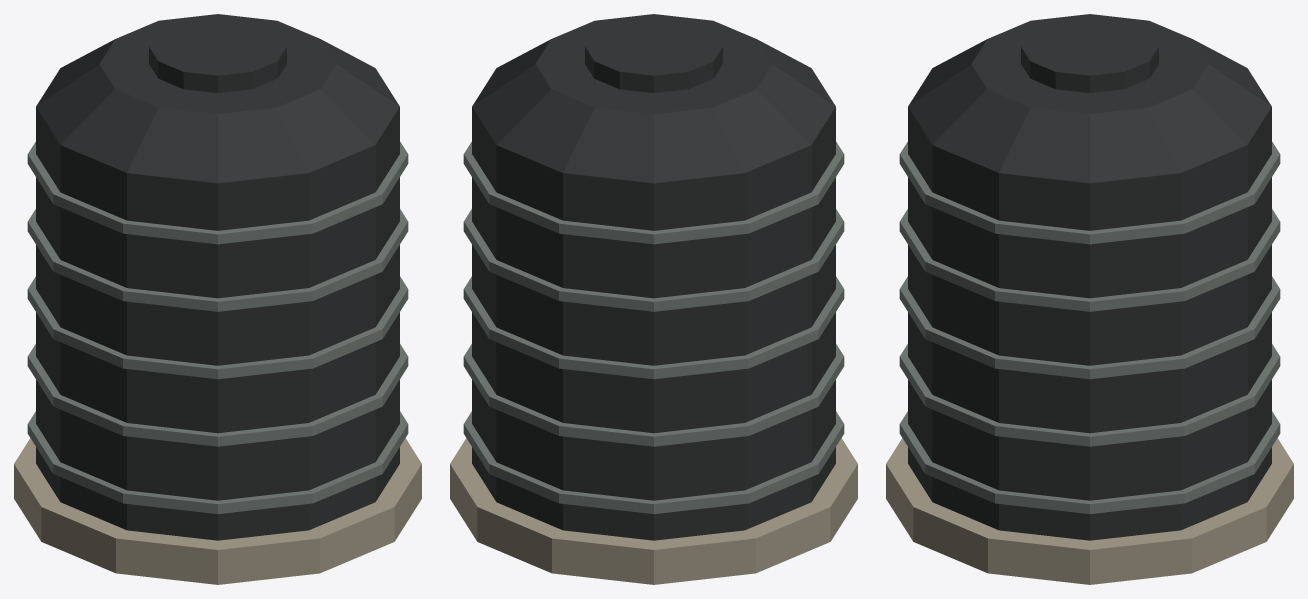
File: 062_rooftop_water_tank.glb
3 views of the same model, side by side, from view 1: azimuth 30°, elevation 25°; view 2: azimuth 150°, elevation 25°; view 3: azimuth 270°, elevation 25° (orthographic).
Visible parts, largest first — view 1: Rooftop water tank; view 2: Rooftop water tank; view 3: Rooftop water tank.
Part boxes in pixels (x1,y1,x2,y2): Rooftop water tank: [14, 14, 421, 584]; Rooftop water tank: [450, 14, 857, 584]; Rooftop water tank: [886, 14, 1293, 584].
Size of the model in its own units: 1.48 by 1.81 by 1.48.
